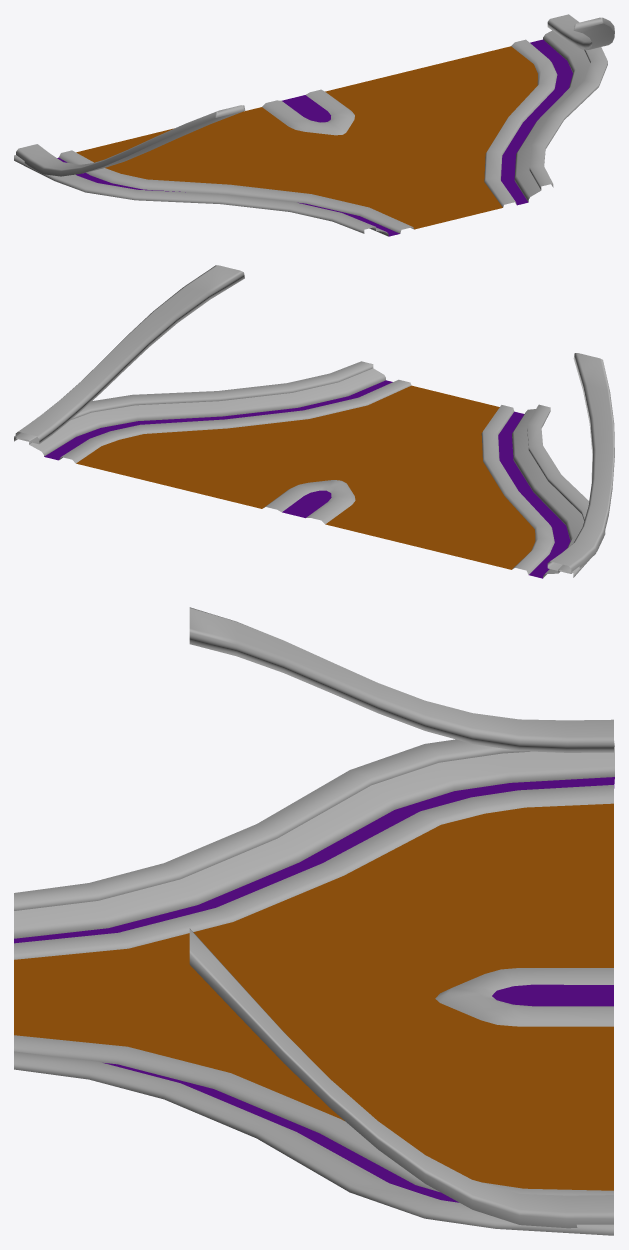
The model's file is CouloirPath1.fbx.
3 views of the same model, one above another, from view 1: azimuth 30°, elevation 25°; view 2: azimuth 150°, elevation 25°; view 3: azimuth 270°, elevation 25° (orthographic). The views are drawn at different scales.
Parts seen in each view (by area): view 1: CouloirPath1_low; view 2: CouloirPath1_low; view 3: CouloirPath1_low.
Part boxes in pixels (x1,y1,x2,y2): CouloirPath1_low: [14, 14, 614, 236]; CouloirPath1_low: [14, 265, 614, 578]; CouloirPath1_low: [14, 607, 614, 1235].
Bounding box in the file's own units: 13.7 × 2.83 × 6.96.
